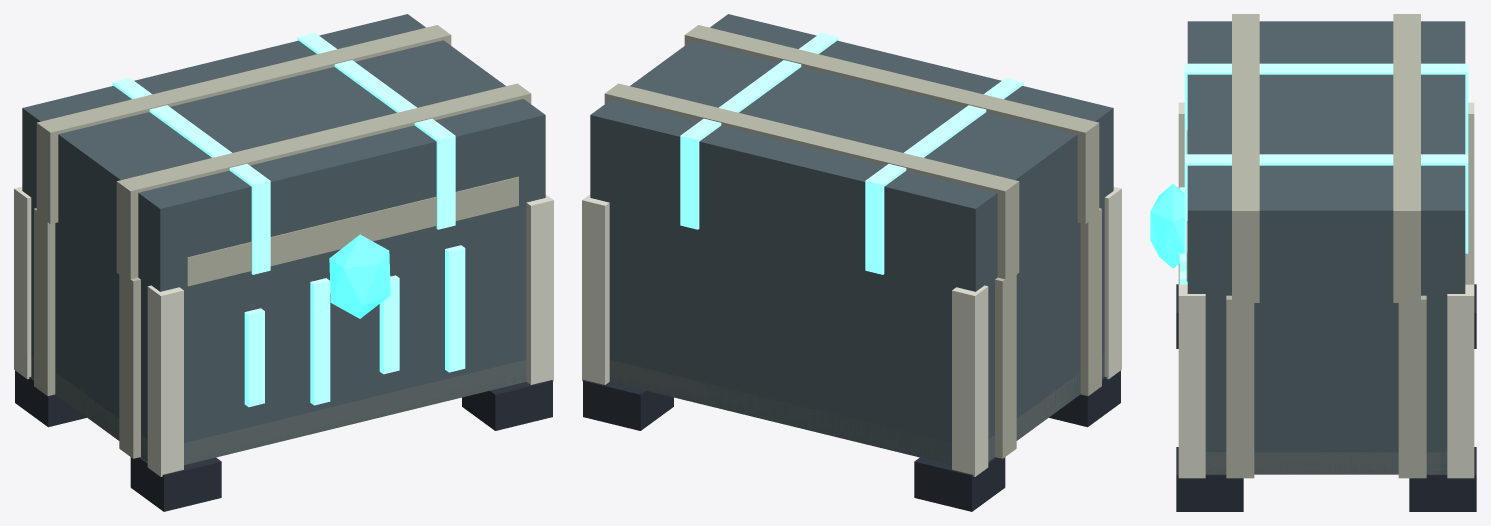
Rendered from loot_chest_warded_closed.glb.
3 views of the same model, side by side, from view 1: azimuth 30°, elevation 25°; view 2: azimuth 150°, elevation 25°; view 3: azimuth 270°, elevation 25° (orthographic).
Visible parts, largest first — view 1: Ward_Lid, Ward_Body_Front, Ward_Body_Left, Ward_Body_Floor, Ward_Lid_Band_1, Ward_Lid_Band_2, Ward_Lid_Lip, Ward_Corner_1, Ward_Corner_2, Ward_Lid_Rune_2, Ward_Lid_Rune_1, Ward_Seal (+10 smaller); view 2: Ward_Lid, Ward_Body_Back, Ward_Body_Left, Ward_Lid_Band_1, Ward_Lid_Band_2, Ward_Body_Floor, Ward_Corner_3, Ward_Corner_4, Ward_Lid_Rune_2, Ward_Lid_Rune_1, Ward_Band_2, Ward_Band_1 (+4 smaller); view 3: Ward_Lid, Ward_Body_Right, Ward_Lid_Band_2, Ward_Lid_Band_1, Ward_Corner_2, Ward_Corner_4, Ward_Band_1, Ward_Band_2, Ward_Body_Floor, Ward_Lid_Rune_2, Ward_Lid_Rune_1, Ward_Foot_2 (+6 smaller).
Boxes of the visible parts, x1,y1,x2,y2 form: Ward_Lid: (22,14,545,291); Ward_Body_Front: (148,204,526,464); Ward_Body_Left: (34,202,147,461); Ward_Body_Floor: (31,355,526,465); Ward_Lid_Band_1: (116,83,531,282); Ward_Lid_Band_2: (36,25,451,224); Ward_Lid_Lip: (187,176,518,286); Ward_Corner_1: (147,285,183,476); Ward_Corner_2: (526,194,553,384); Ward_Lid_Rune_2: (297,33,455,229); Ward_Lid_Rune_1: (112,78,270,274); Ward_Seal: (329,234,390,318); Ward_Lid: (590,14,1113,291); Ward_Body_Back: (609,204,987,465); Ward_Body_Left: (988,202,1101,439); Ward_Lid_Band_1: (684,25,1099,224); Ward_Lid_Band_2: (604,83,1019,280); Ward_Body_Floor: (609,355,1104,464); Ward_Corner_3: (952,285,988,476); Ward_Corner_4: (582,194,609,384); Ward_Lid_Rune_2: (680,33,838,229); Ward_Lid_Rune_1: (865,78,1023,274); Ward_Band_2: (995,271,1016,458); Ward_Band_1: (1080,208,1101,395); Ward_Lid: (1187,21,1465,295); Ward_Body_Right: (1212,295,1440,474); Ward_Lid_Band_2: (1393,14,1420,302); Ward_Lid_Band_1: (1232,14,1259,302); Ward_Corner_2: (1178,284,1205,478); Ward_Corner_4: (1447,284,1474,478); Ward_Band_1: (1226,295,1254,478); Ward_Band_2: (1398,295,1426,478); Ward_Body_Floor: (1205,452,1447,474); Ward_Lid_Rune_2: (1184,154,1468,253); Ward_Lid_Rune_1: (1184,63,1468,154); Ward_Foot_2: (1176,447,1243,511).
Size of the model in its own units: 1.04 by 0.7484 by 0.728.
